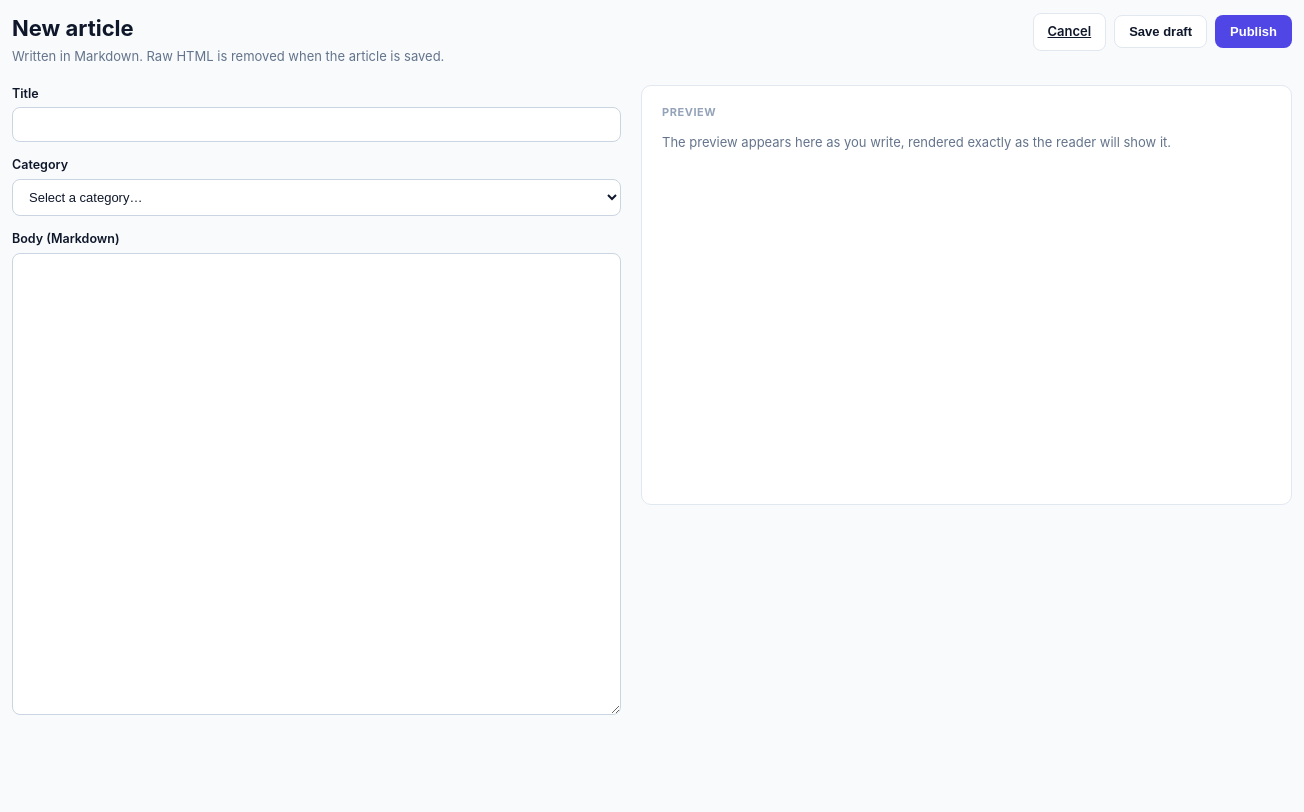
Test: ArticleEditorPage › blocks Publish without a category and names the missing field
In the field labelled "Title": coordinates (316, 125) 12,107 -> 621,142, type "A title"
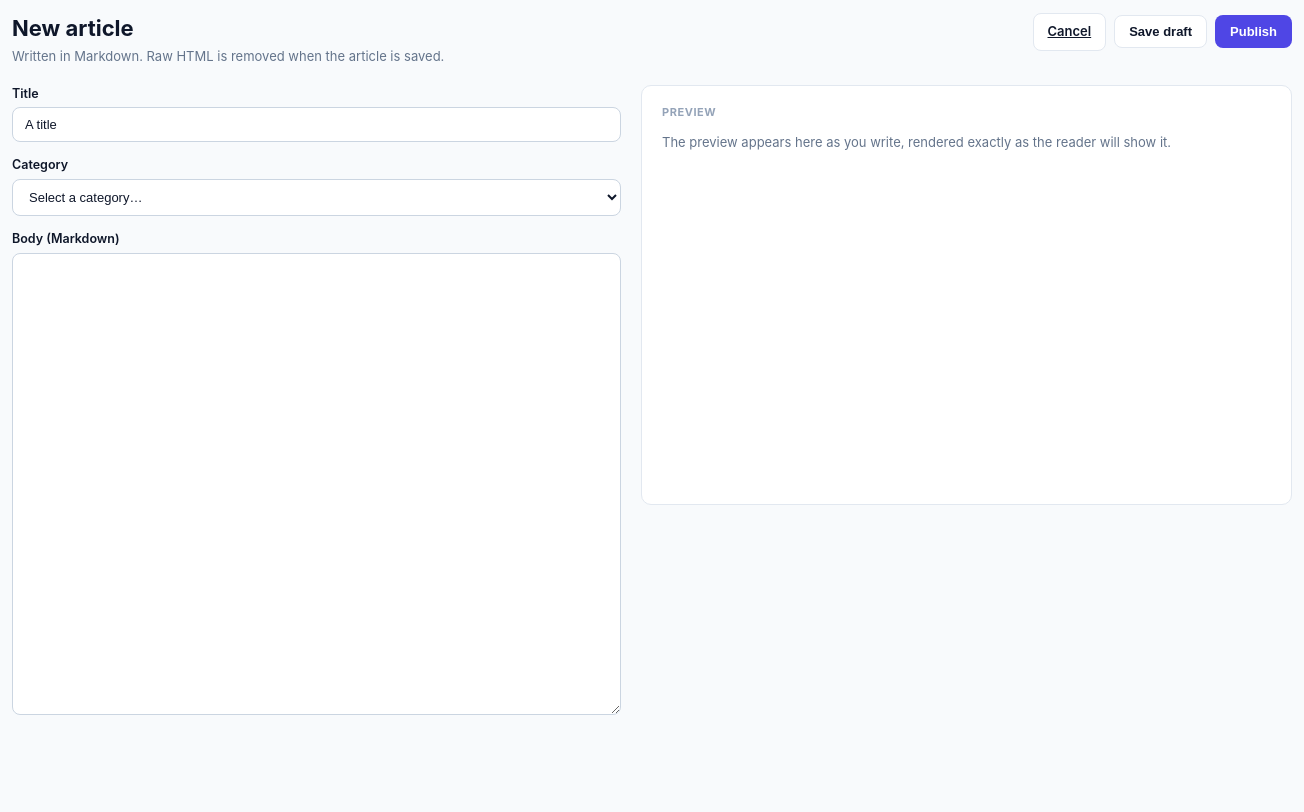
In the text box labelled "Body (Markdown)": coordinates (316, 484) 12,253 -> 621,715, type "A body."
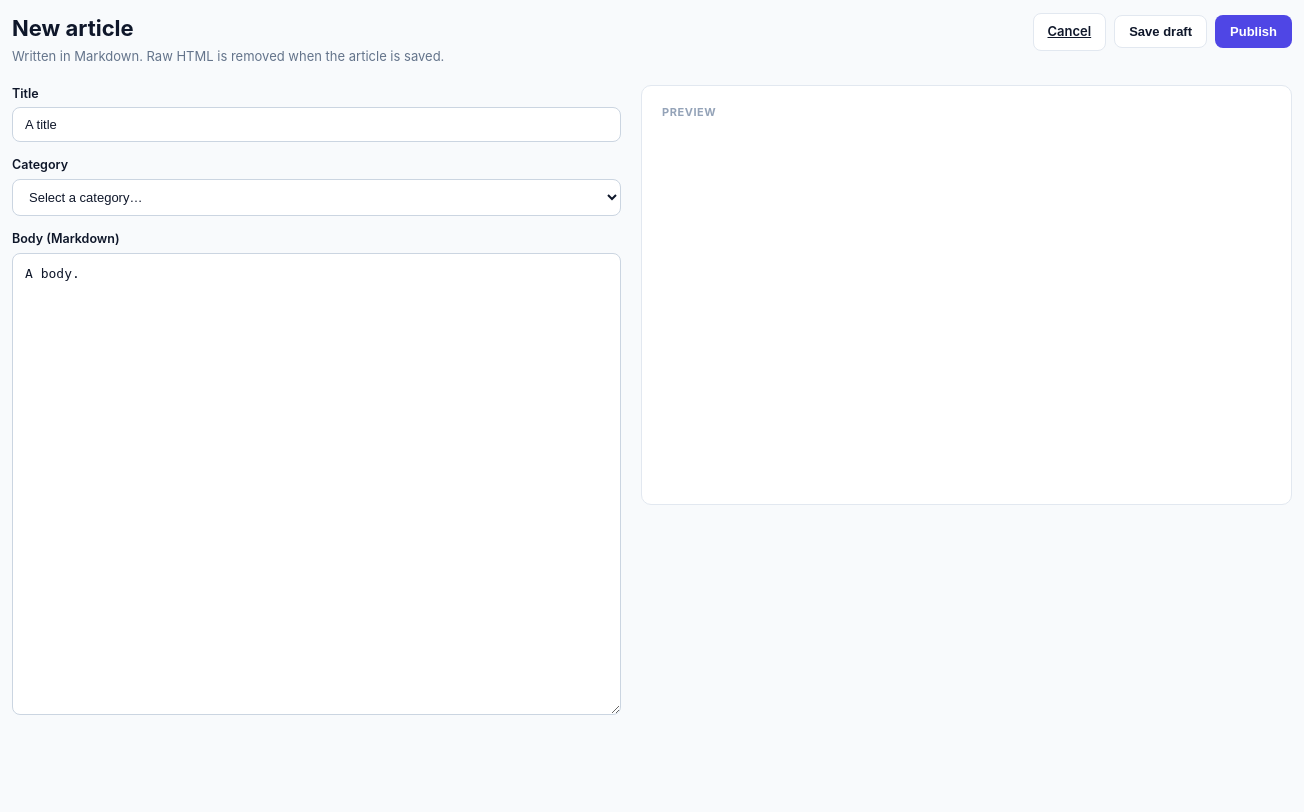
# Category deliberately left unselected.
Click the button "Publish": coordinates (1254, 32) 1215,15 -> 1292,48
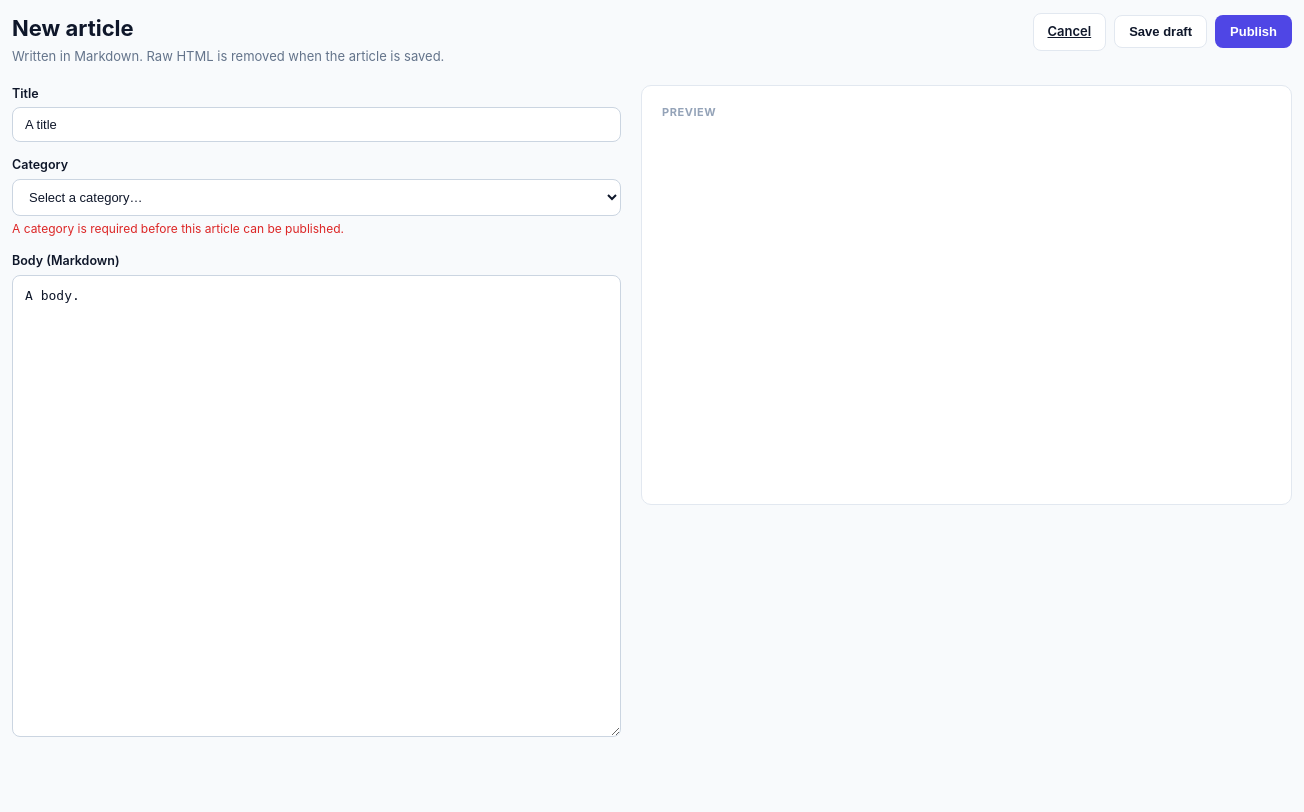
Expected: the text "A category is required before this article can be published." is shown, 12,221 -> 344,236
